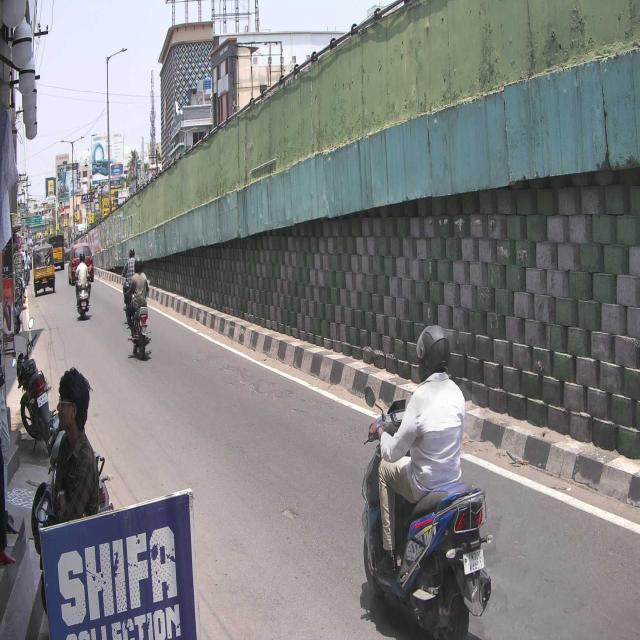single_rider: (362, 322, 495, 640)
